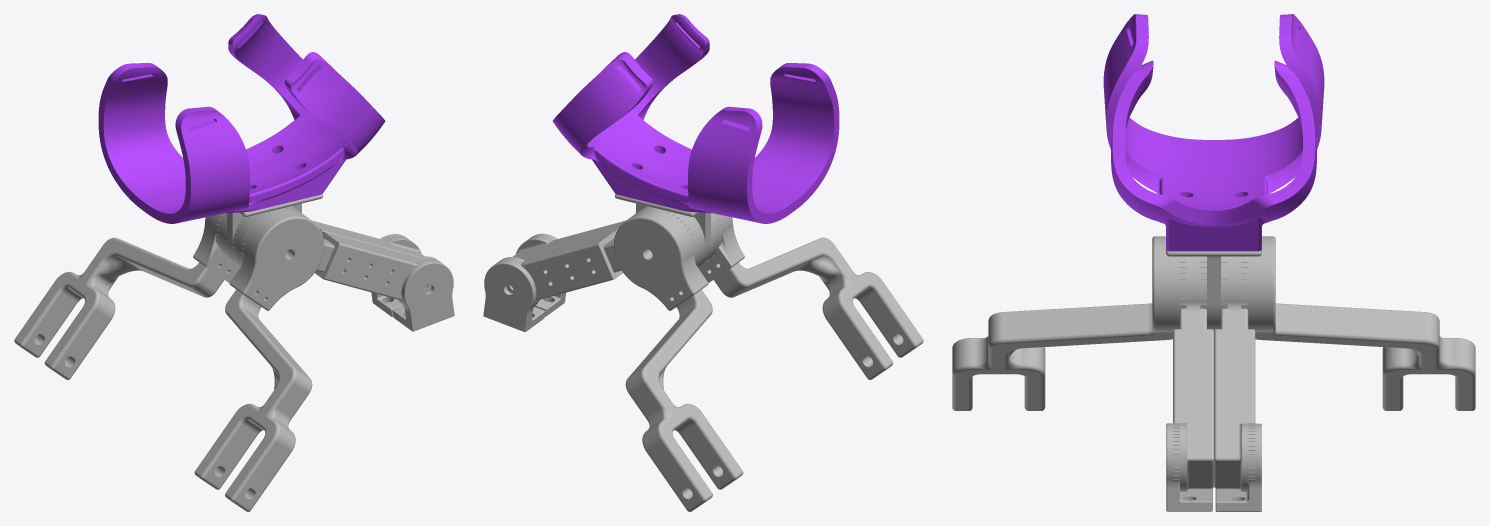
The model's file is ensamblaje_silla - copia.glb.
The picture shows the model from 3 angles, left to right: view 1: azimuth 30°, elevation 25°; view 2: azimuth 150°, elevation 25°; view 3: azimuth 270°, elevation 25°; orthographic projection. The views are drawn at different scales.
Visible parts, largest first — view 1: Socket 1-1, Socket 2-1, Distal trasera-2, Distal trasera-1, Proximal_trasera-2, Delantero-abajo_1-1, ruedaloca_2-1, Proximal_trasera-1, Delantero-abajo_1-2, Mec-delantero-arriba-2, Centro_1-1, ruedaloca_1-1; view 2: Socket 1-1, Socket 2-1, Distal trasera-1, Distal trasera-2, Proximal_trasera-1, Delantero-abajo_1-2, ruedaloca_1-1, Proximal_trasera-2, Delantero-abajo_1-1, Mec-delantero-arriba-1, Centro_2-1, ruedaloca_2-1; view 3: Socket 1-1, Socket 2-1, Distal trasera-2, Distal trasera-1, Delantero-abajo_1-1, Delantero-abajo_1-2, Proximal_trasera-2, Proximal_trasera-1, ruedaloca_2-1, ruedaloca_1-1, Mec-delantero-arriba-1, Mec-delantero-arriba-2 (+2 smaller).
Part boxes in pixels (x1=…): Socket 1-1: x1=98, y1=63, x2=329, y2=223; Socket 2-1: x1=228, y1=14, x2=385, y2=195; Distal trasera-2: x1=194, y1=289, x2=312, y2=511; Distal trasera-1: x1=14, y1=237, x2=227, y2=379; Proximal_trasera-2: x1=229, y1=207, x2=323, y2=310; Delantero-abajo_1-1: x1=315, y1=231, x2=440, y2=305; ruedaloca_2-1: x1=392, y1=258, x2=454, y2=331; Proximal_trasera-1: x1=193, y1=213, x2=239, y2=282; Delantero-abajo_1-2: x1=312, y1=220, x2=424, y2=257; Mec-delantero-arriba-2: x1=232, y1=206, x2=391, y2=276; Centro_1-1: x1=229, y1=194, x2=322, y2=267; ruedaloca_1-1: x1=371, y1=234, x2=408, y2=316; Socket 1-1: x1=608, y1=63, x2=839, y2=223; Socket 2-1: x1=552, y1=14, x2=709, y2=195; Distal trasera-1: x1=625, y1=289, x2=743, y2=511; Distal trasera-2: x1=710, y1=237, x2=923, y2=379; Proximal_trasera-1: x1=614, y1=207, x2=708, y2=310; Delantero-abajo_1-2: x1=497, y1=231, x2=622, y2=305; ruedaloca_1-1: x1=483, y1=259, x2=545, y2=331; Proximal_trasera-2: x1=698, y1=213, x2=744, y2=282; Delantero-abajo_1-1: x1=513, y1=220, x2=625, y2=257; Mec-delantero-arriba-1: x1=546, y1=206, x2=705, y2=282; Centro_2-1: x1=615, y1=194, x2=708, y2=267; ruedaloca_2-1: x1=531, y1=233, x2=565, y2=316; Socket 1-1: x1=1103, y1=14, x2=1324, y2=251; Socket 2-1: x1=1111, y1=60, x2=1316, y2=244; Distal trasera-2: x1=952, y1=303, x2=1172, y2=410; Distal trasera-1: x1=1255, y1=303, x2=1475, y2=410; Delantero-abajo_1-1: x1=1173, y1=329, x2=1214, y2=491; Delantero-abajo_1-2: x1=1214, y1=329, x2=1255, y2=491; Proximal_trasera-2: x1=1152, y1=236, x2=1186, y2=333; Proximal_trasera-1: x1=1241, y1=236, x2=1275, y2=333; ruedaloca_2-1: x1=1166, y1=423, x2=1212, y2=511; ruedaloca_1-1: x1=1215, y1=423, x2=1261, y2=511; Mec-delantero-arriba-1: x1=1221, y1=256, x2=1248, y2=329; Mec-delantero-arriba-2: x1=1179, y1=256, x2=1206, y2=329.
Size of the model in its own units: 0.3147 by 0.3499 by 0.3826.
